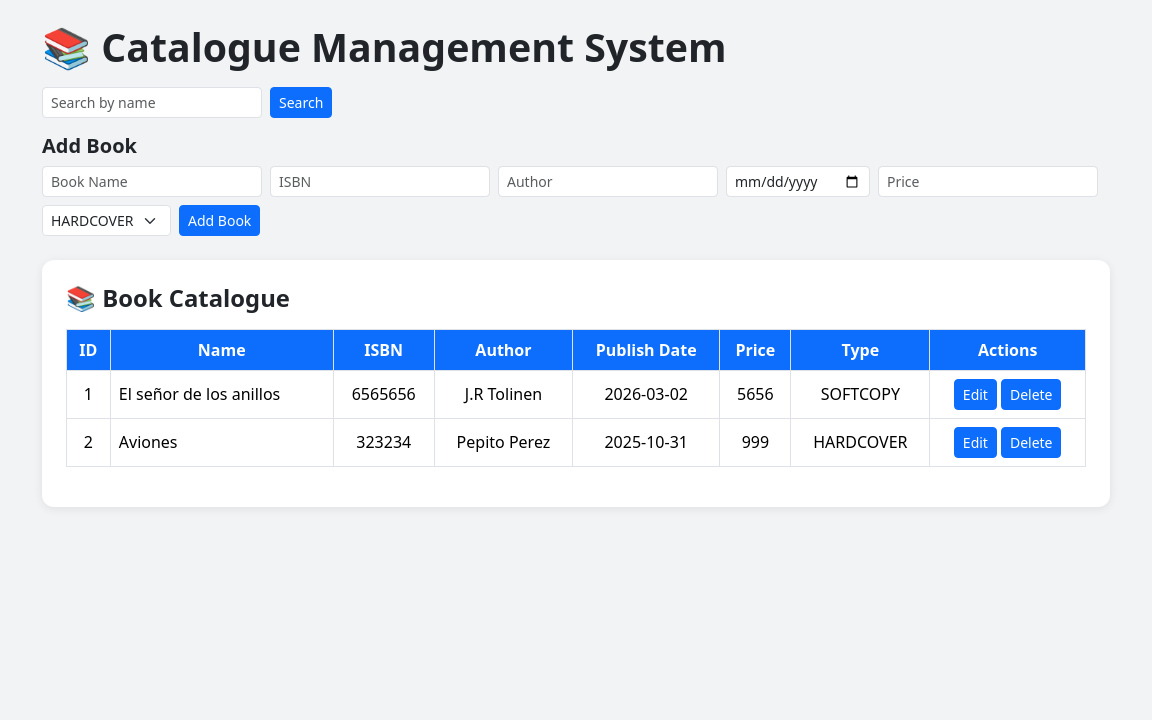
Scenario: App (flujo completo CRUD + búsqueda) › agregar un libro: aparece automáticamente en la lista y se confirma la creación
The image size is (1152, 720).
expect the text "Aviones" is shown: met, box [110,418,333,466]
Type "Cien años de soledad" into the field labelled "Book Name" at (152, 182), box [42,166,262,197]
Type "111222" into the field labelled "ISBN" at (380, 182), box [270,166,490,197]
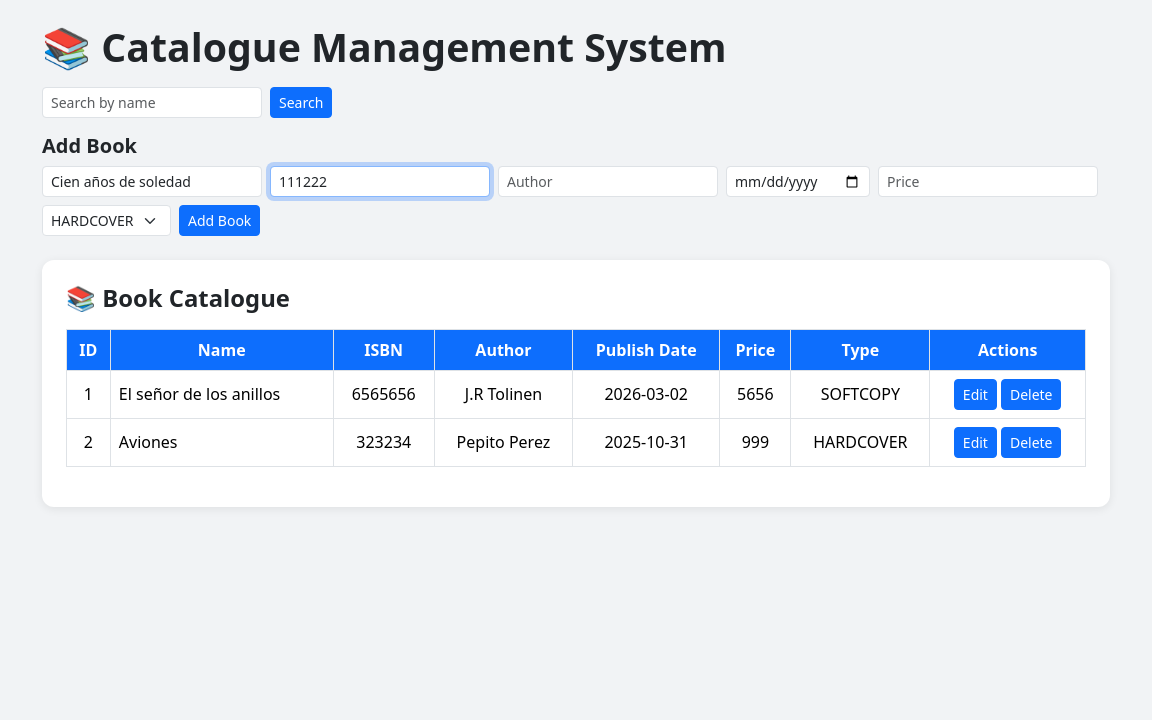
Type "G. Garcia Marquez" into the field labelled "Author" at (608, 182), box [498,166,718,197]
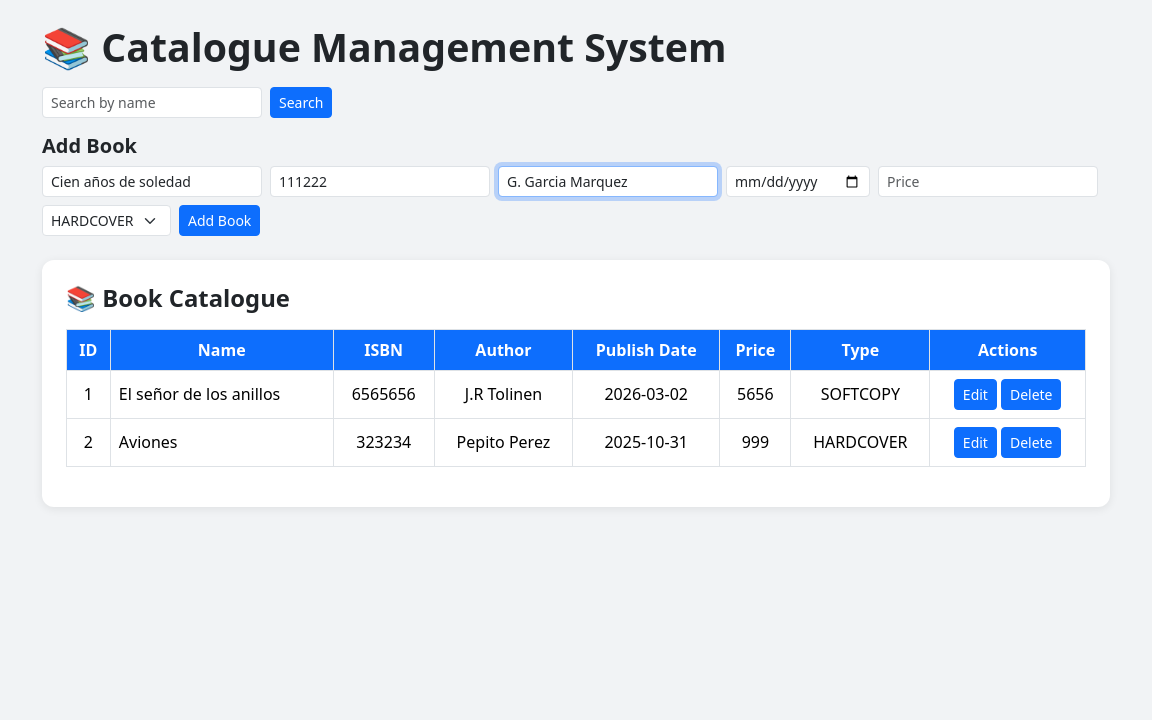
Type "1967-05-30" into the date field named "Publish Date" at (798, 182), box [726,166,870,197]
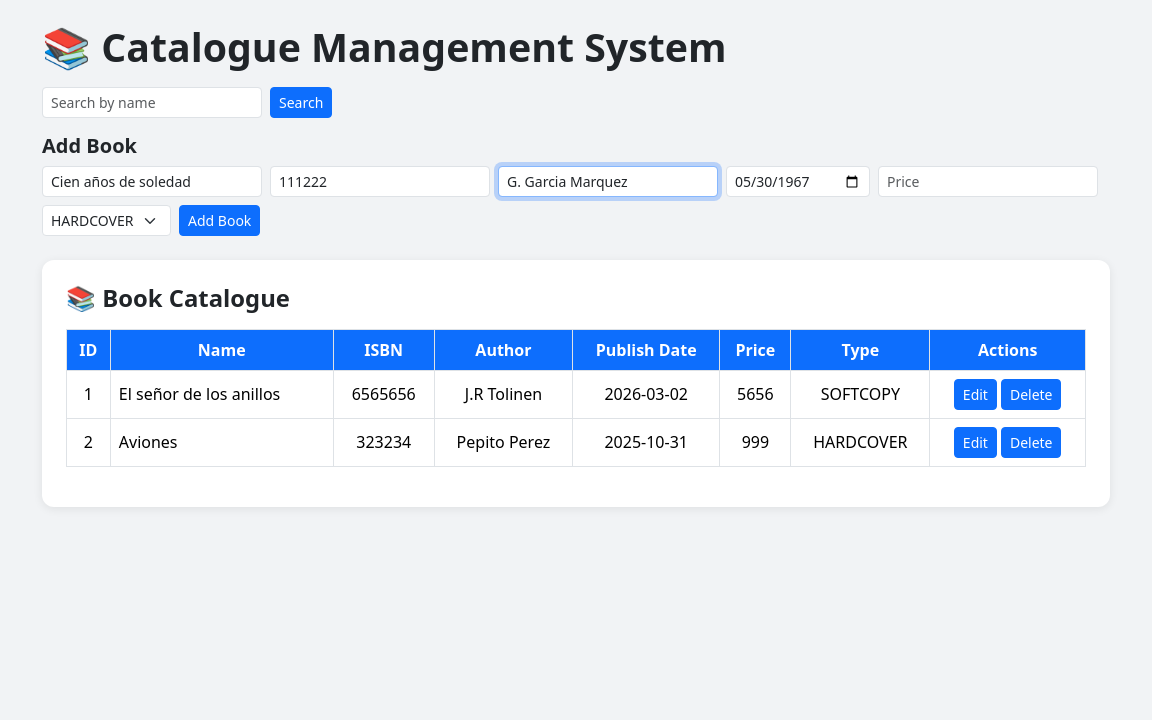
Type "50" into the number field labelled "Price" at (988, 182), box [878,166,1098,197]
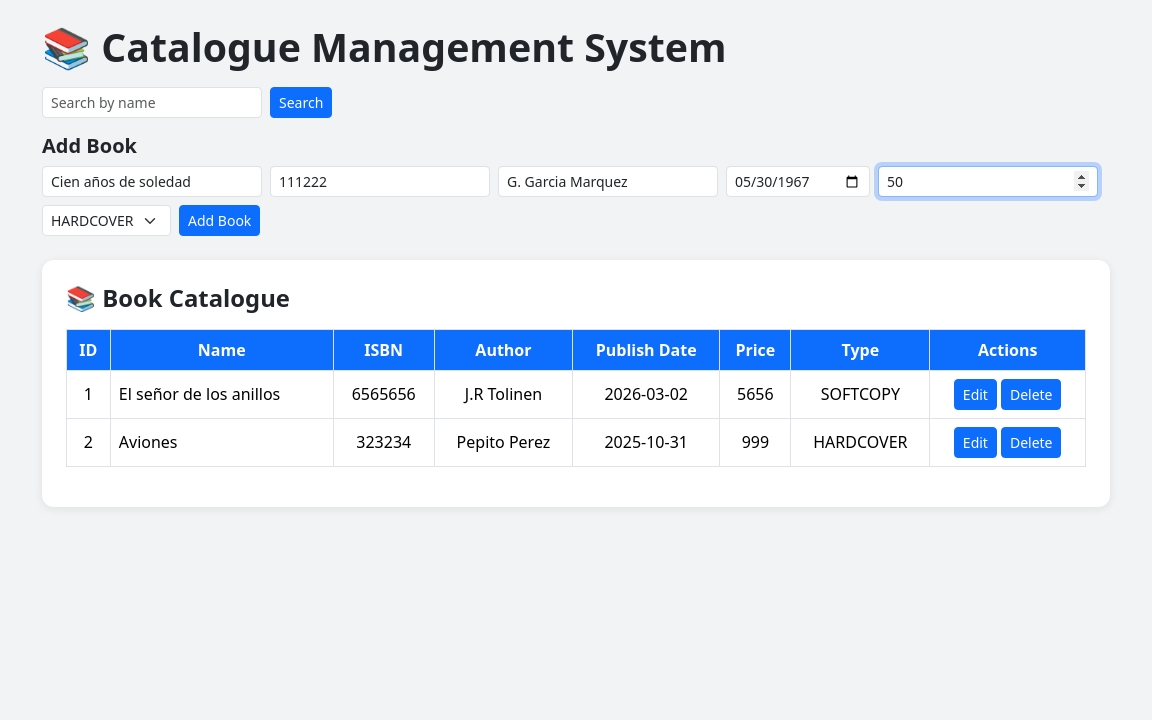
Select "EBOOK" in the dropdown named "Type" at (106, 221), box [42,205,171,236]
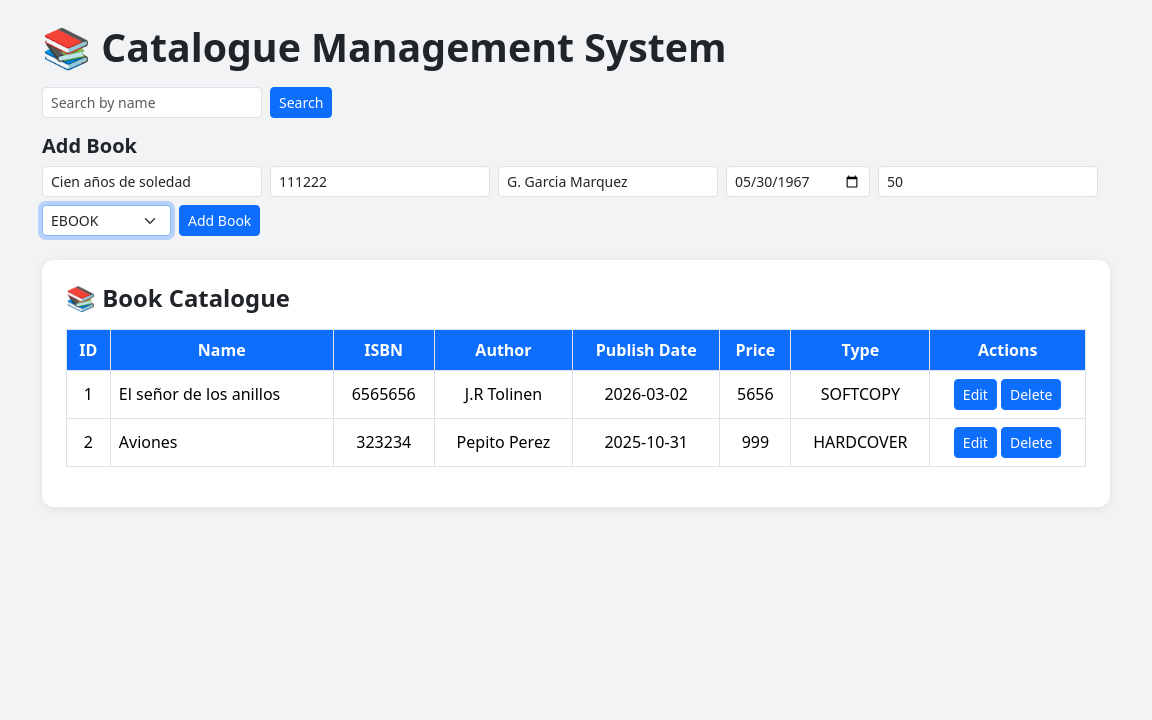
Click the button "Add Book" at (220, 221), box [179,205,260,236]
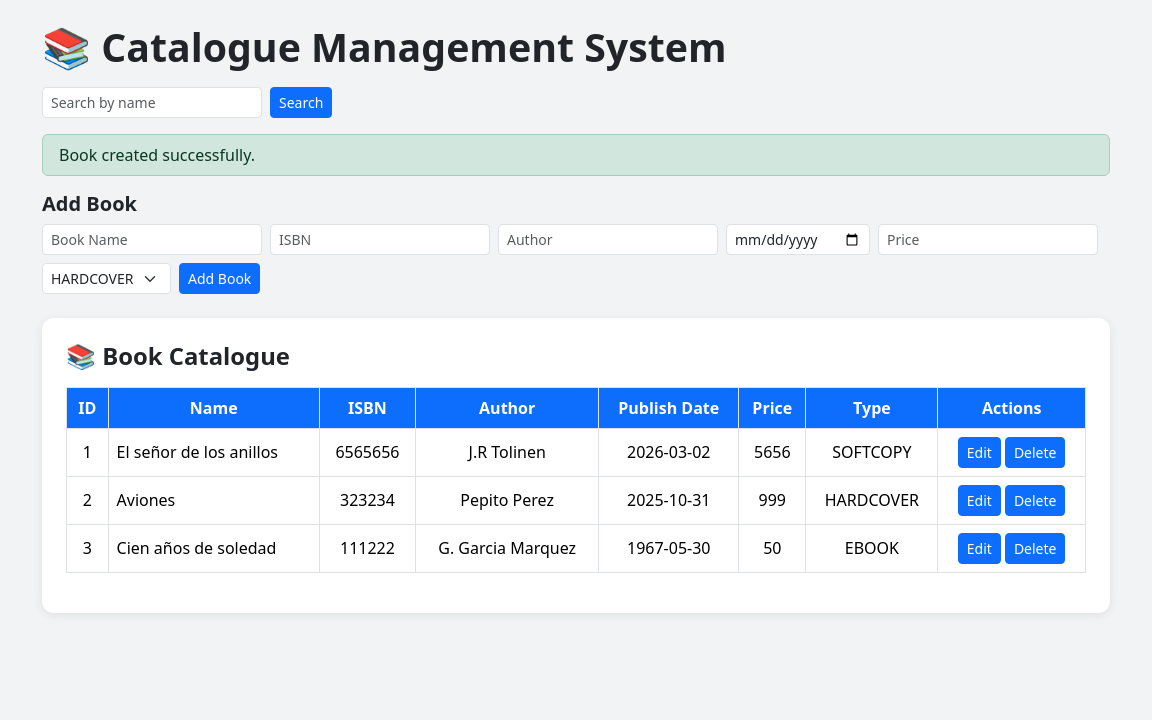
expect the text "Cien años de soledad" is shown: met, box [108,524,319,572]
expect the message reads "Book created successfully.": met, box [59,144,255,166]
expect the text "3" is shown: met, box [66,524,108,572]
